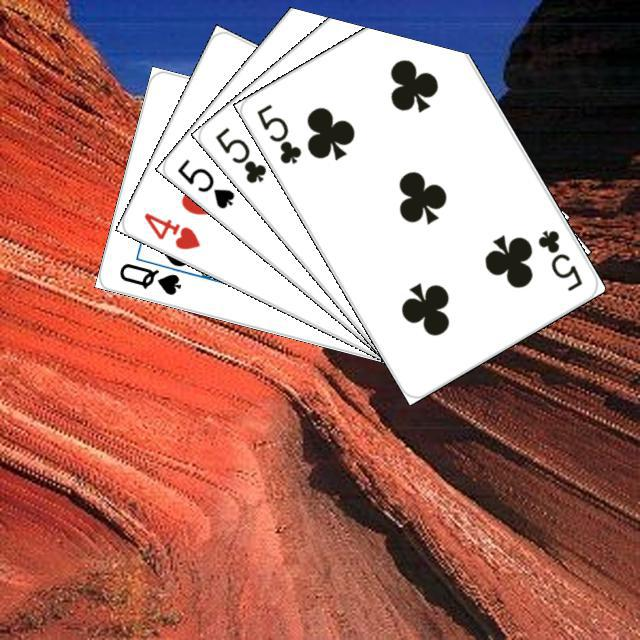4h: (139, 207, 202, 252)
5c: (210, 122, 269, 185), (532, 224, 585, 293), (251, 99, 304, 166)
5s: (172, 153, 236, 211)
Qs: (114, 258, 183, 297)
